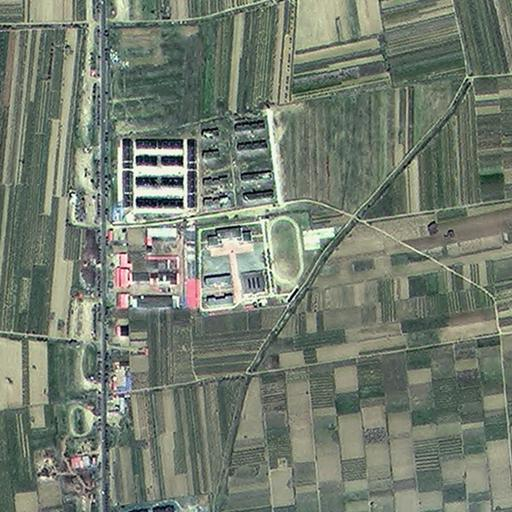school: (197, 215, 305, 312)
